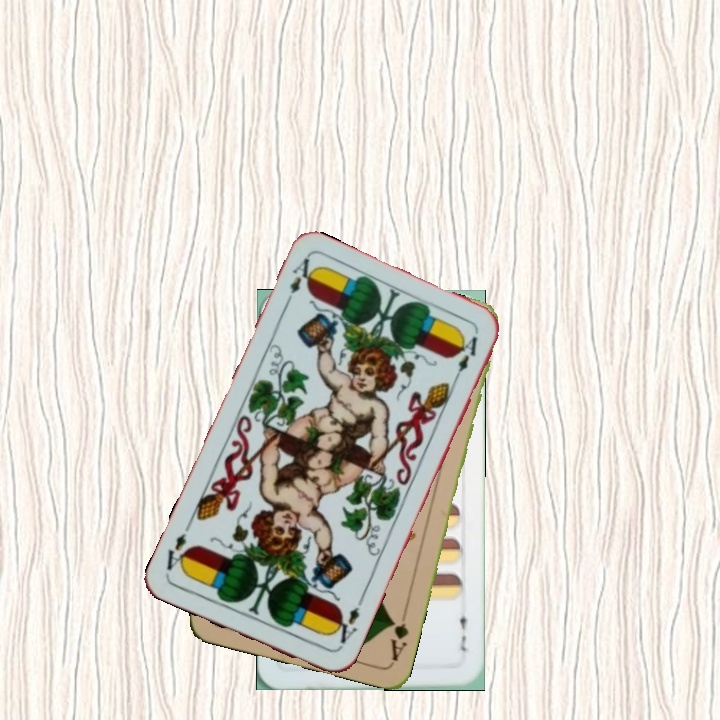E7: (455, 605, 469, 654)
EA: (328, 595, 366, 651), (280, 253, 318, 309)
GA: (386, 606, 411, 664)
